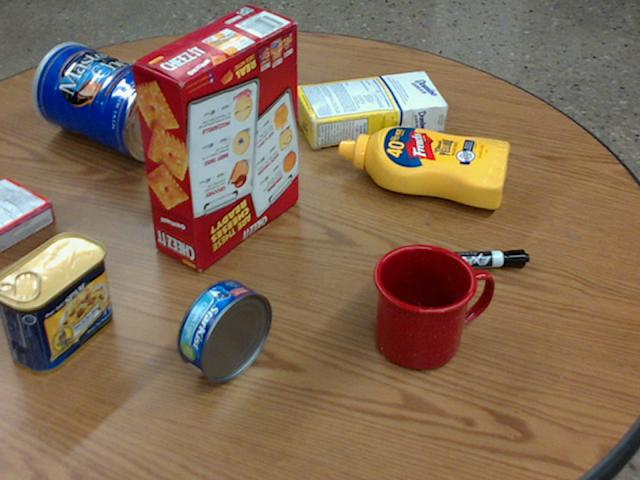cracker_box: (131, 7, 297, 271)
gelatin_box: (0, 177, 55, 252)
large_marker: (412, 249, 529, 269)
master_chef_can: (31, 42, 181, 161)
mug: (374, 243, 491, 369)
mustard_bottle: (337, 127, 509, 207)
potted_meat_can: (0, 232, 111, 374)
sugar_box: (293, 69, 448, 148)
tomato_soup_can: (200, 17, 255, 114)
tuna_fish_can: (177, 280, 272, 382)
